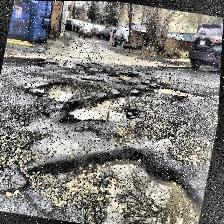pothole: (21, 130, 213, 224), (62, 84, 144, 134), (30, 76, 80, 106), (158, 84, 194, 100), (109, 69, 139, 83)
